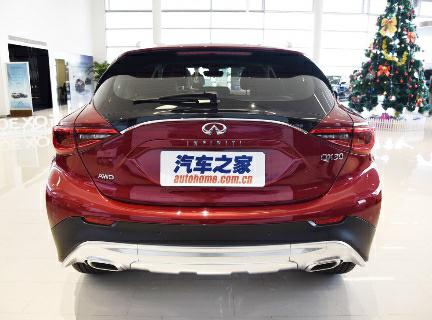英菲尼迪-QX30: (38, 43, 386, 284)
